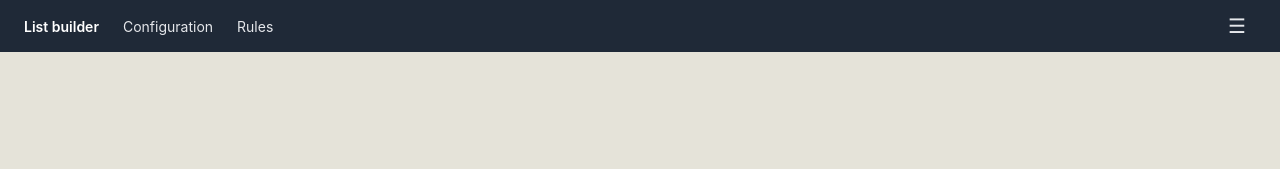
Test case: Nav › closes the Rules dropdown when the hamburger menu is opened
The width and height of the screenshot is (1280, 169).
Click the button "Rules".
click(255, 26)  # box [237,18,273,35]
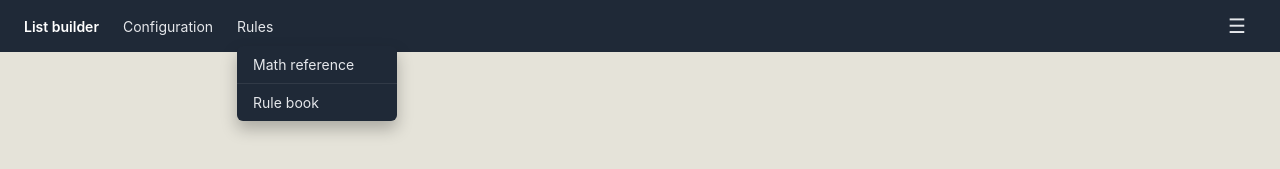
expect the link "Math reference" is shown: met, box [253,56,354,73]
Click the button named "Toggle navigation menu".
click(1237, 26)  # box [1218,12,1256,40]
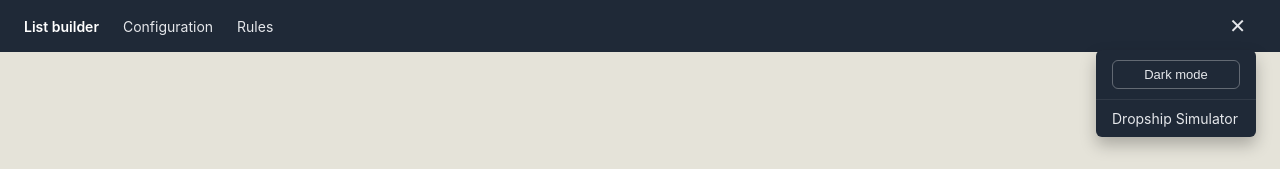
expect the link "Math reference" is gone: met
